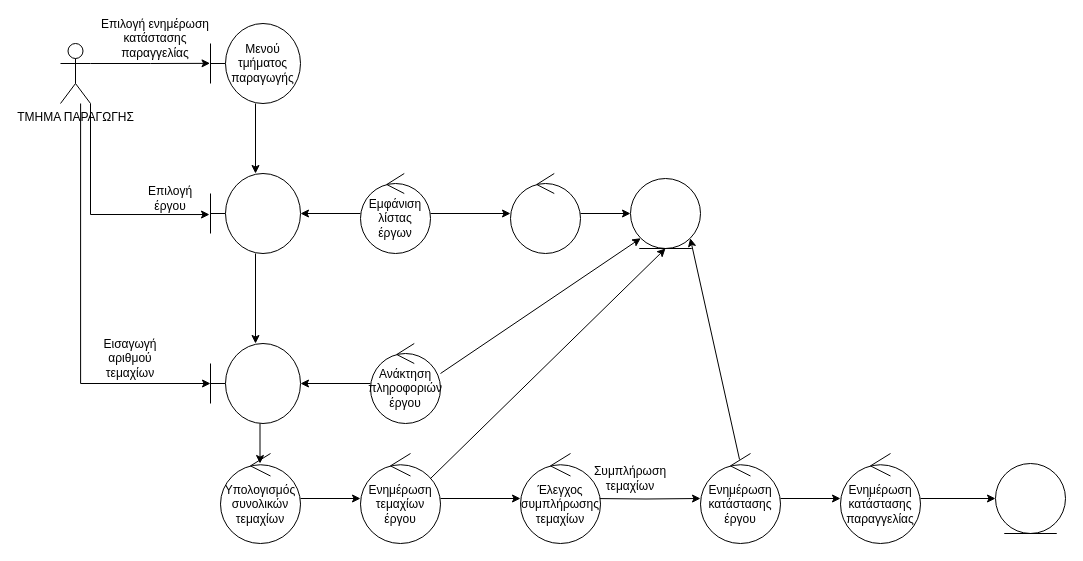
Image size: 1083x561. Some labels were removed from this diagram. Here are the shapes that lost their labels. From the top down, the centre of each, then its label:
At pixel 255 213: "Οθόνη λίστας έργων".
At pixel 545 213: "Ανάκτηση λίστας έργων".
At pixel 665 213: "Έργο".
At pixel 255 383: "Οθόνη ενημέρωσης παραγγελίας".
At pixel 1030 498: "Παραγγελία".
